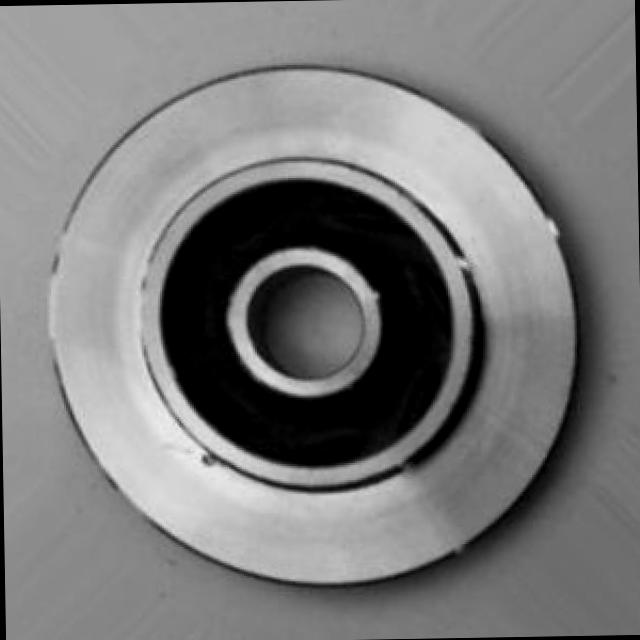Defect: (187, 438, 224, 478)
